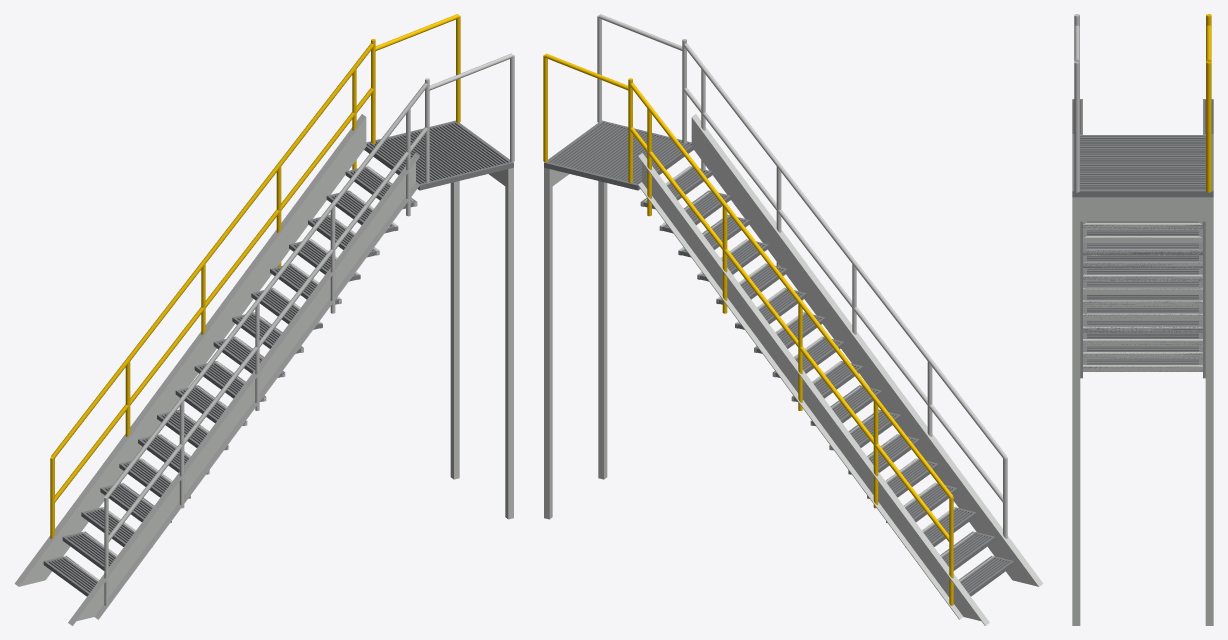
File: Industrial_Steel_Stair_12ft.glb
3 views of the same model, side by side, from view 1: azimuth 30°, elevation 25°; view 2: azimuth 150°, elevation 25°; view 3: azimuth 270°, elevation 25° (orthographic). The views are drawn at different scales.
Parts seen in each view (by area): view 1: stringer_web_1, stringer_web_-1_9894ed, top_landing_7d0a18, stringer_flange_1_1_e26960, stringer_flange_-1_1_9a2f07, stringer_flange_-1_0_c341eb, top_rail_-1_afae08, top_rail_1_bc188a, mid_rail_1_9637f1, mid_rail_-1_547f09, landing_post_-1_e63b2d, landing_post_1_b5f003 (+2 smaller); view 2: stringer_web_-1_5741e8, stringer_web_1_4e2d81, top_landing_7d0a18, stringer_flange_1_1_e26960, stringer_flange_-1_1_9a2f07, stringer_flange_1_0_7d1702, top_rail_1_bc188a, top_rail_-1_afae08, mid_rail_-1_547f09, mid_rail_1_9637f1, landing_post_1, landing_post_-1_9fd2c4 (+3 smaller); view 3: top_landing_7d0a18, landing_post_-1_f7ad4c, landing_post_1_53879c, landing_beam_front_fbb712, tread_07_8a4083, top_landing_48a36d, tread_10_e8a284, tread_04_8495d1, tread_09_24d74c, tread_05_9a8fb2, nosing_03, nosing_12_364d19 (+67 smaller).
Part boxes in pixels (left/top/right/bottom): stringer_web_1: left=19, top=117, right=366, bottom=586; stringer_web_-1_9894ed: left=77, top=162, right=415, bottom=620; top_landing_7d0a18: left=366, top=120, right=513, bottom=185; stringer_flange_1_1_e26960: left=14, top=114, right=365, bottom=586; stringer_flange_-1_1_9a2f07: left=68, top=153, right=419, bottom=625; stringer_flange_-1_0_c341eb: left=94, top=182, right=419, bottom=619; top_rail_-1_afae08: left=105, top=83, right=428, bottom=498; top_rail_1_bc188a: left=51, top=43, right=374, bottom=458; mid_rail_1_9637f1: left=54, top=88, right=374, bottom=502; mid_rail_-1_547f09: left=107, top=127, right=428, bottom=542; landing_post_-1_e63b2d: left=508, top=187, right=513, bottom=519; landing_post_1_b5f003: left=454, top=181, right=459, bottom=479; stringer_web_-1_5741e8: left=691, top=117, right=1038, bottom=586; stringer_web_1_4e2d81: left=642, top=162, right=980, bottom=620; top_landing_7d0a18: left=544, top=120, right=691, bottom=185; stringer_flange_1_1_e26960: left=638, top=153, right=989, bottom=625; stringer_flange_-1_1_9a2f07: left=692, top=114, right=1043, bottom=586; stringer_flange_1_0_7d1702: left=638, top=182, right=963, bottom=619; top_rail_1_bc188a: left=629, top=83, right=952, bottom=498; top_rail_-1_afae08: left=683, top=43, right=1006, bottom=458; mid_rail_-1_547f09: left=683, top=88, right=1003, bottom=502; mid_rail_1_9637f1: left=629, top=127, right=950, bottom=542; landing_post_1: left=544, top=187, right=549, bottom=519; landing_post_-1_9fd2c4: left=598, top=181, right=603, bottom=479; top_landing_7d0a18: left=1072, top=135, right=1213, bottom=191; landing_post_-1_f7ad4c: left=1072, top=221, right=1080, bottom=625; landing_post_1_53879c: left=1205, top=221, right=1213, bottom=625; landing_beam_front_fbb712: left=1072, top=197, right=1213, bottom=221; tread_07_8a4083: left=1083, top=281, right=1202, bottom=289; top_landing_48a36d: left=1072, top=191, right=1213, bottom=197; tread_10_e8a284: left=1083, top=243, right=1202, bottom=250; tread_04_8495d1: left=1083, top=320, right=1202, bottom=327; tread_09_24d74c: left=1083, top=256, right=1202, bottom=263; tread_05_9a8fb2: left=1083, top=307, right=1202, bottom=314; nosing_03: left=1083, top=340, right=1202, bottom=346; nosing_12_364d19: left=1083, top=224, right=1202, bottom=230.
Size of the model in its own units: 4.7 by 4.69 by 1.06.
